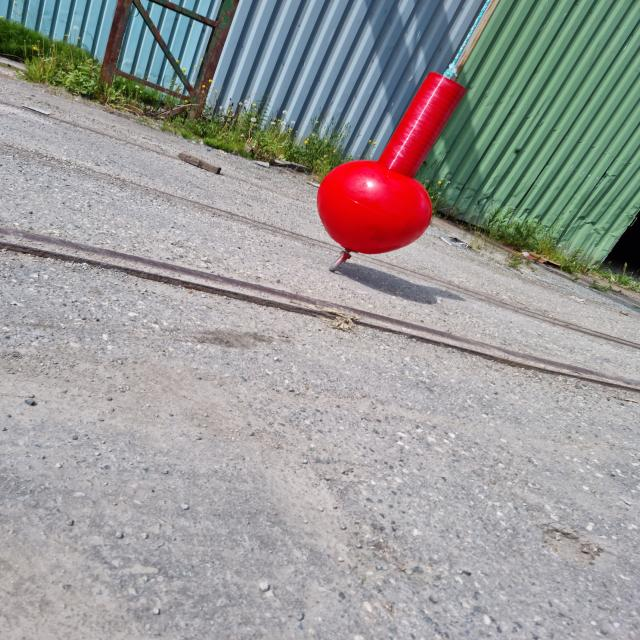red: (316, 72, 466, 254)
